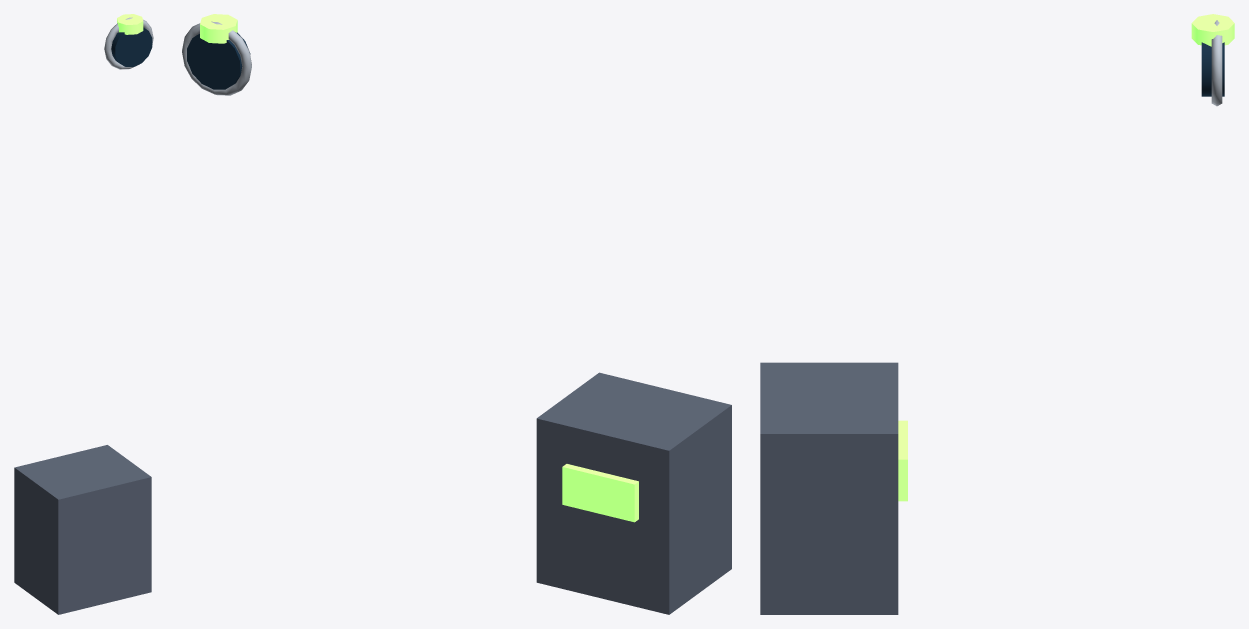
Rendered from tower_detector_analysis_s3.glb.
3 renders of one model, left to right at view 1: azimuth 30°, elevation 25°; view 2: azimuth 150°, elevation 25°; view 3: azimuth 270°, elevation 25°, orthographic. The views are drawn at different scales.
Parts seen in each view (by area): view 1: detector_recorder, detector_analysis_lens, detector_analysis_lens_ring, detector_up_analysis_l3_stud; view 2: detector_recorder, detector_recorder_face, detector_analysis_lens, detector_analysis_lens_ring, detector_up_analysis_l3_stud; view 3: detector_recorder, detector_up_analysis_l3_stud, detector_analysis_lens_ring, detector_recorder_face, detector_analysis_lens.
Part boxes in pixels (bbox=[...]): detector_recorder: bbox=[14, 445, 151, 614]; detector_analysis_lens: bbox=[111, 27, 152, 66]; detector_analysis_lens_ring: bbox=[104, 17, 153, 69]; detector_up_analysis_l3_stud: bbox=[117, 14, 143, 34]; detector_recorder: bbox=[536, 372, 731, 614]; detector_recorder_face: bbox=[562, 464, 638, 522]; detector_analysis_lens: bbox=[187, 32, 250, 89]; detector_analysis_lens_ring: bbox=[182, 21, 251, 95]; detector_up_analysis_l3_stud: bbox=[200, 14, 237, 43]; detector_recorder: bbox=[760, 362, 898, 614]; detector_up_analysis_l3_stud: bbox=[1191, 14, 1234, 46]; detector_analysis_lens_ring: bbox=[1211, 20, 1222, 106]; detector_recorder_face: bbox=[898, 420, 907, 501]; detector_analysis_lens: bbox=[1201, 42, 1224, 96].
Bounding box in the file's own units: 0.568 × 0.988 × 0.618.
